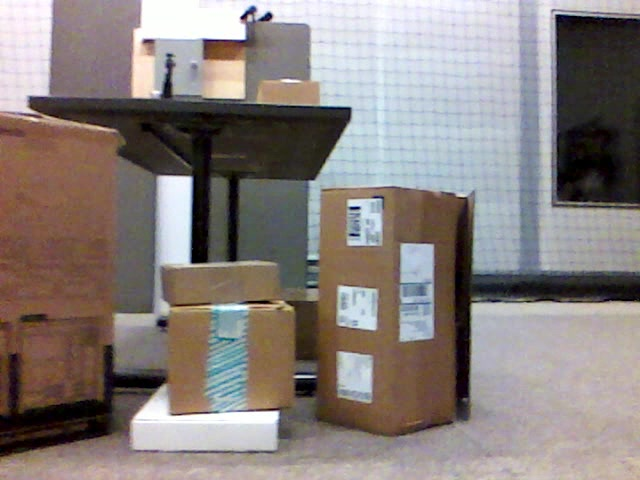box: (320, 185, 473, 436), (2, 113, 115, 451), (168, 302, 297, 415), (162, 263, 279, 302), (257, 79, 319, 106)
